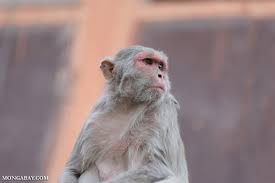monkey: (72, 13, 189, 173)
